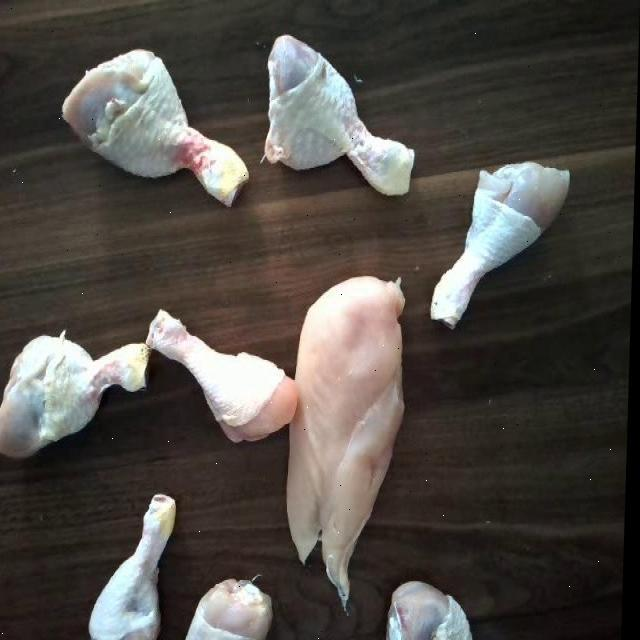breast: (286, 268, 409, 588)
leg: (56, 51, 255, 206), (430, 148, 570, 334), (264, 38, 417, 205), (0, 323, 149, 472), (144, 306, 295, 451), (97, 493, 180, 640), (188, 569, 278, 640), (392, 576, 474, 640)
